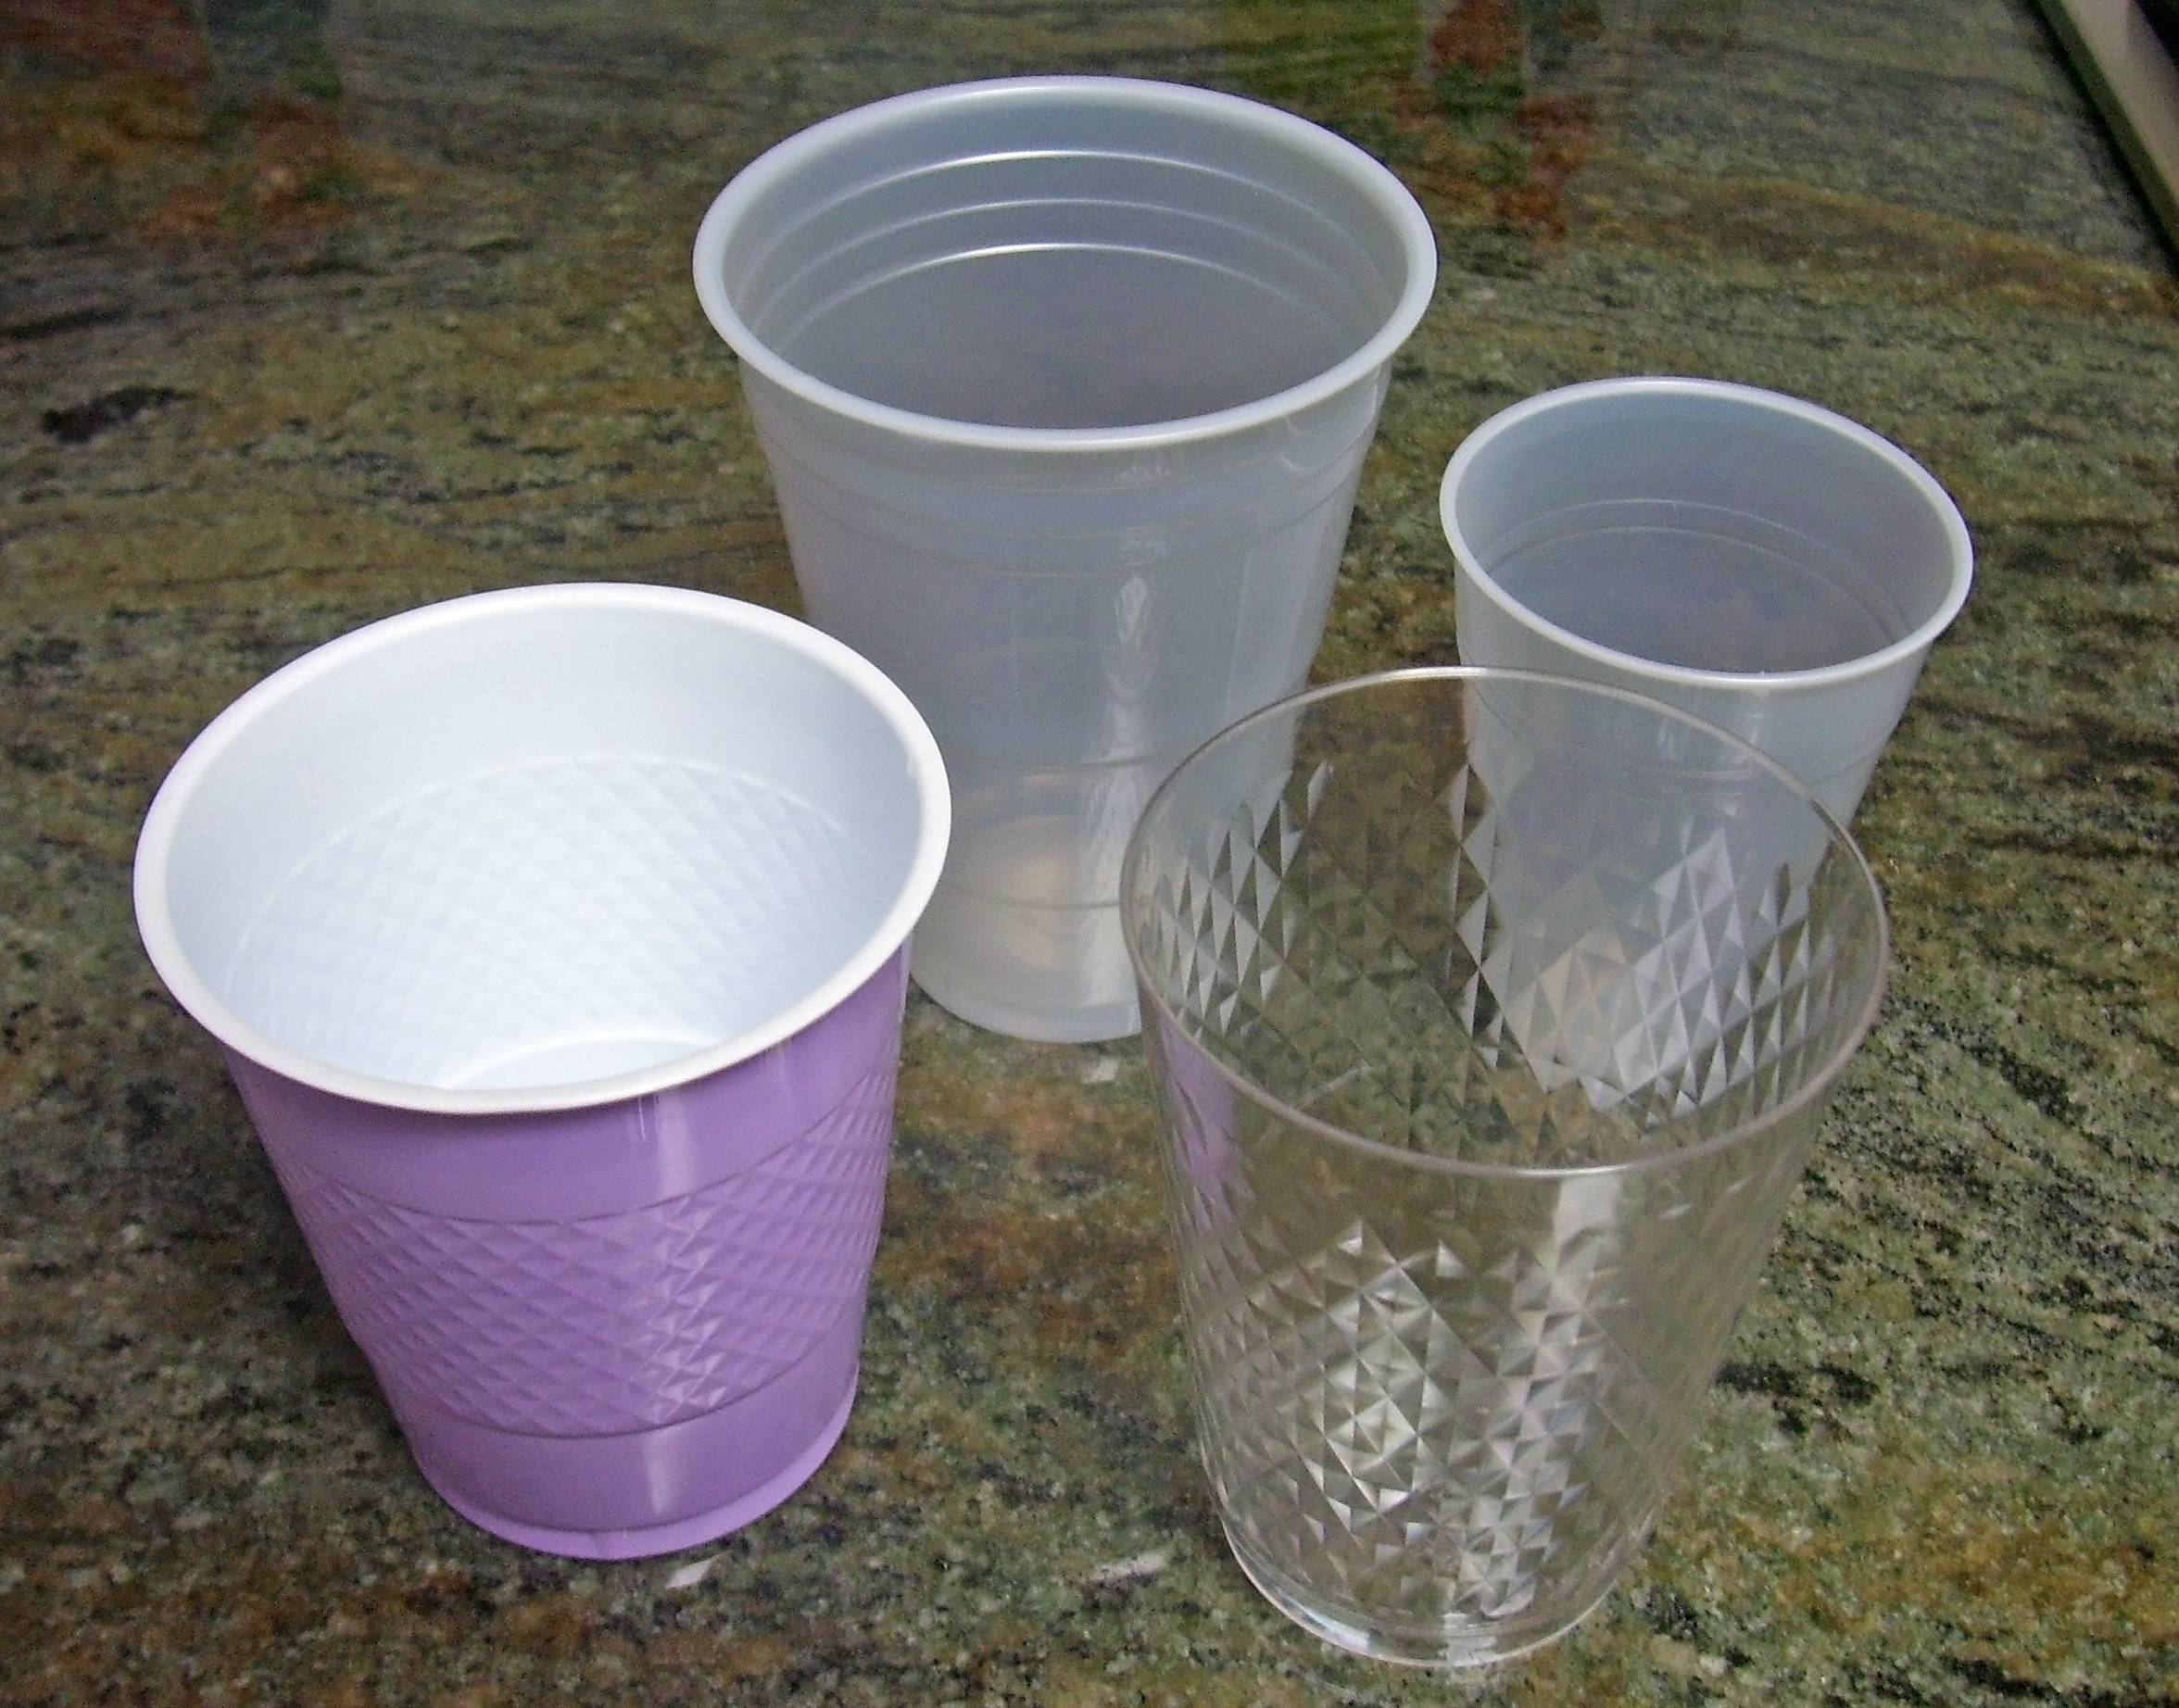plastic_glass: (124, 576, 975, 1575)
